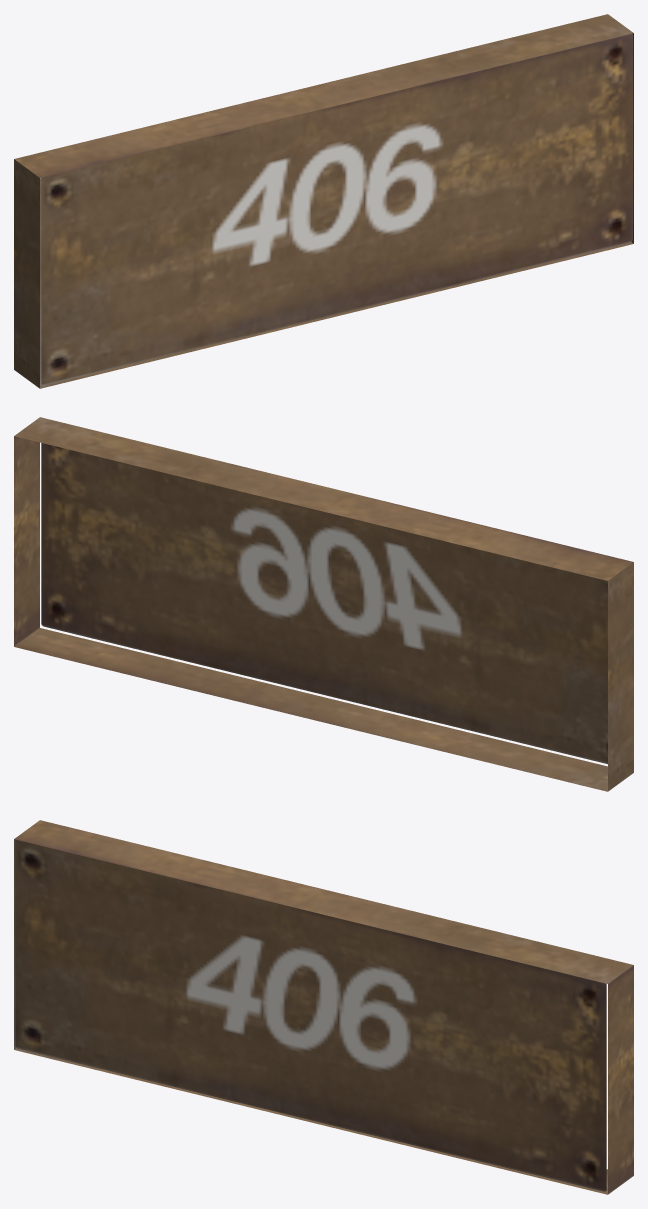
File: 406_sign.FBX
3 renders of one model, top to bottom at view 1: azimuth 30°, elevation 25°; view 2: azimuth 150°, elevation 25°; view 3: azimuth 330°, elevation 25°, orthographic.
Visible parts, largest first — view 1: 406_sign; view 2: 406_sign; view 3: 406_sign.
Boxes of the visible parts, x1,y1,x2,y2 form: 406_sign: (14,14,633,388); 406_sign: (14,417,633,791); 406_sign: (14,820,633,1194).
Bounding box in the file's own units: 68.28 × 23.15 × 5.19.
